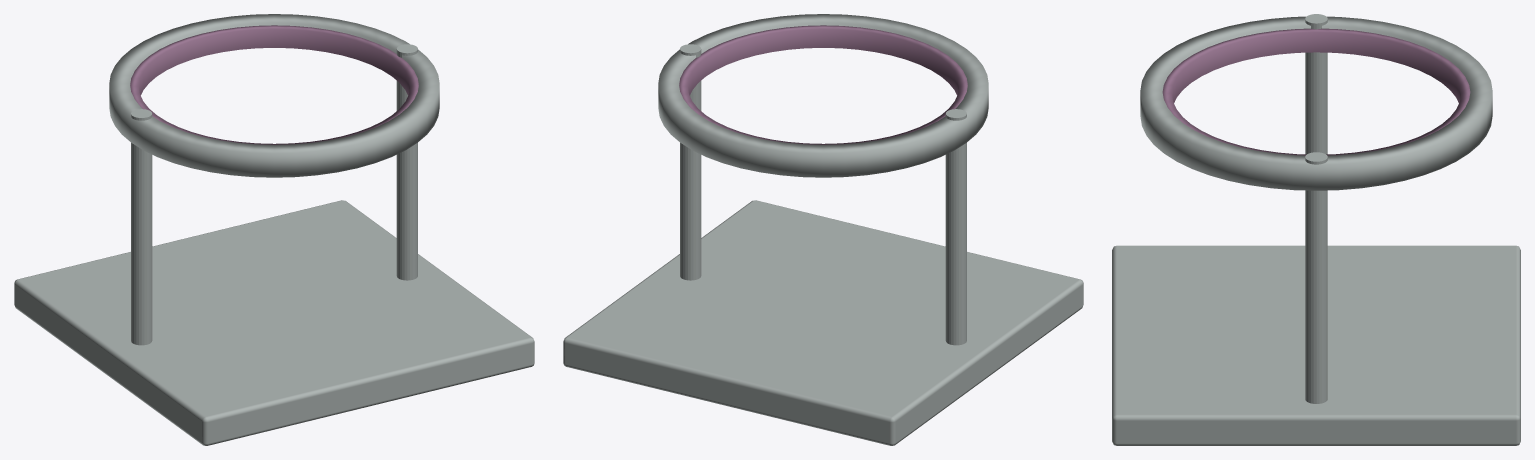
The model's file is museum-conservation-and-art-restoration-museum-conserv-aafccd74__31907.glb.
3 renders of one model, left to right at view 1: azimuth 30°, elevation 25°; view 2: azimuth 150°, elevation 25°; view 3: azimuth 270°, elevation 25°, orthographic. The views are drawn at different scales.
Visible parts, largest first — view 1: museum-conservation-and-art-restoration-padded-vessel-collar (×2); view 2: museum-conservation-and-art-restoration-padded-vessel-collar (×2); view 3: museum-conservation-and-art-restoration-padded-vessel-collar (×2).
Part boxes in pixels (left/top/right/bottom): museum-conservation-and-art-restoration-padded-vessel-collar (×2): left=14, top=14, right=534, bottom=445; museum-conservation-and-art-restoration-padded-vessel-collar (×2): left=563, top=14, right=1083, bottom=445; museum-conservation-and-art-restoration-padded-vessel-collar (×2): left=1112, top=14, right=1520, bottom=445.
Bounding box in the file's own units: 0.65 × 0.48 × 0.65.
